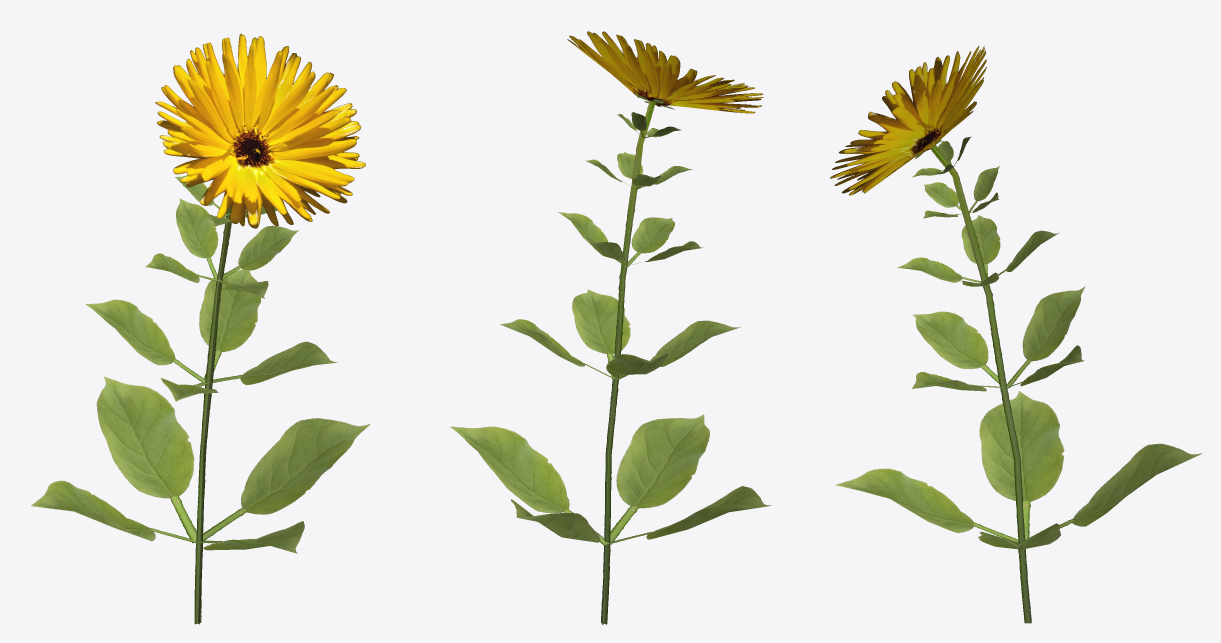
Rendered from Sunflower1.fbx.
3 views of the same model, side by side, from view 1: azimuth 30°, elevation 25°; view 2: azimuth 150°, elevation 25°; view 3: azimuth 270°, elevation 25° (orthographic). The views are drawn at different scales.
Visible parts, largest first — view 1: Sunflower1; view 2: Sunflower1; view 3: Sunflower1.
Boxes of the visible parts, <box> form: Sunflower1: <box>31,33,370,624</box>; Sunflower1: <box>450,31,771,624</box>; Sunflower1: <box>830,46,1202,623</box>.
Size of the model in its own units: 0.4578 by 0.7597 by 0.4632.
